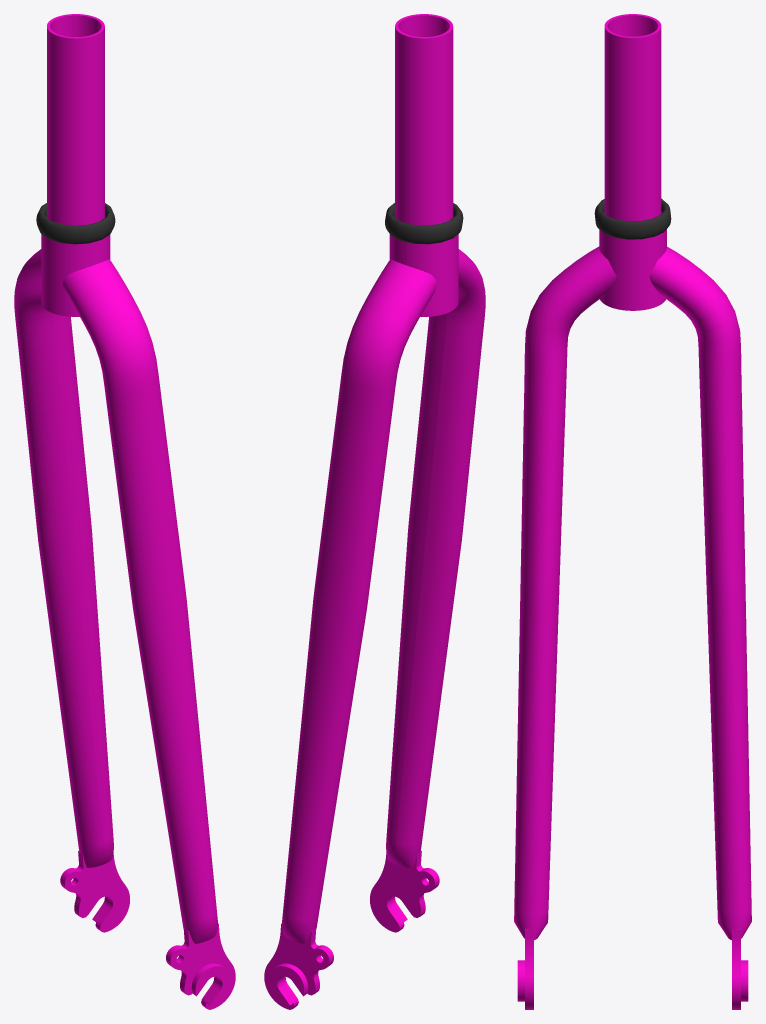
Rendered from Mango_OSS_Fork.glb.
The picture shows the model from 3 angles, left to right: view 1: azimuth 30°, elevation 25°; view 2: azimuth 150°, elevation 25°; view 3: azimuth 270°, elevation 25°; orthographic projection. The views are drawn at different scales.
Parts seen in each view (by area): view 1: no_transformations (×3); view 2: no_transformations (×3); view 3: no_transformations (×3).
Boxes of the visible parts, bbox=[...] form: no_transformations (×3): bbox=[14, 14, 235, 1009]; no_transformations (×3): bbox=[264, 14, 485, 1009]; no_transformations (×3): bbox=[514, 14, 751, 1009].
Size of the model in its own units: 78.81 by 523 by 120.
